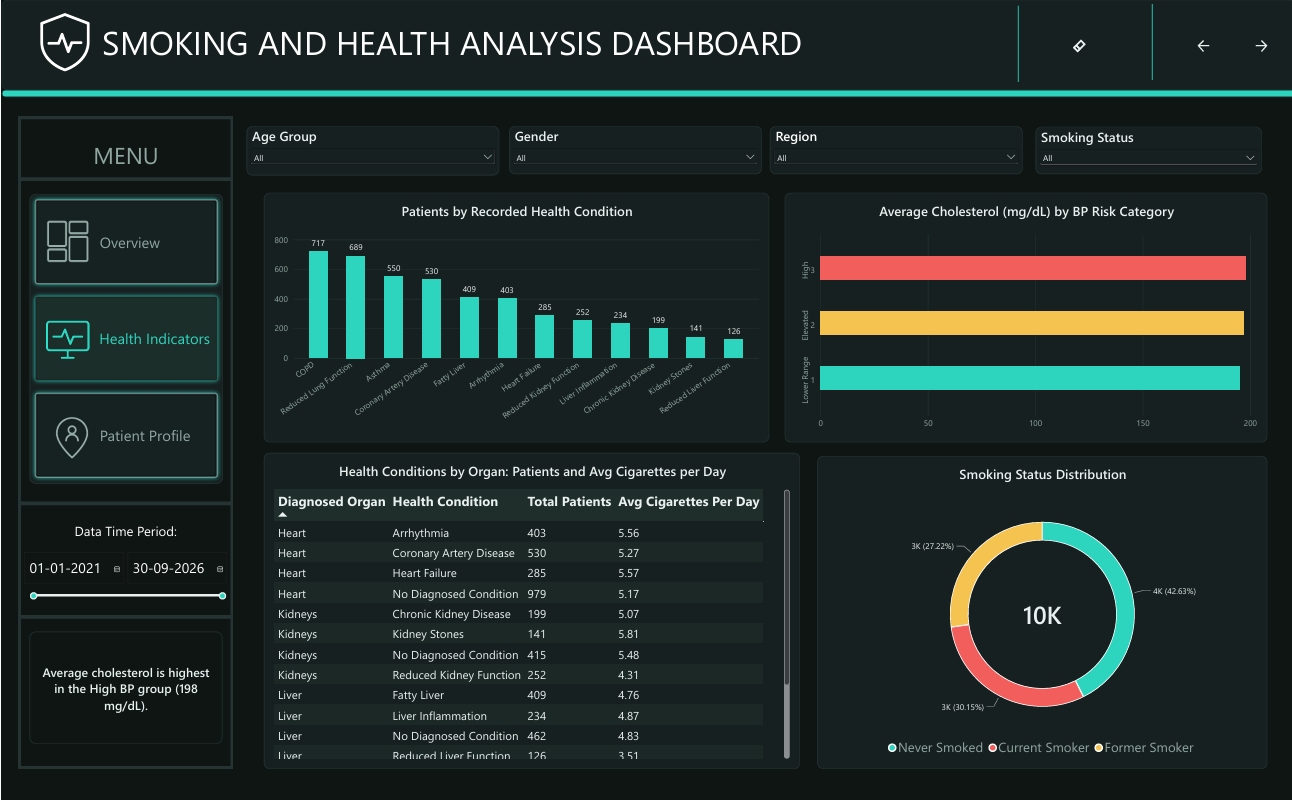

The dashboard page shown, as its layout file describes it:
{"tool":"powerbi","page":{"name":"Health Indicators\t","canvas":[2100,1300],"ordinal":1},"visuals":[{"type":"clusteredColumnChart","title":"Patients by Recorded Health Condition","fields":{"Category":["Smoking_Health_Analysis.Health_Condition"],"Y":["measure.Patients with Organ diagnose"]},"box":[425,312.5,820,405],"z":0},{"type":"tableEx","title":"Health Conditions by Organ: Patients and Avg Cigarettes per Day","fields":{"Values":["Smoking_Health_Analysis.Diagnosed_Organ","Smoking_Health_Analysis.Health_Condition","measure.Total Patients","Avg(Smoking_Health_Analysis.Cigarettes_Per_Day)"]},"box":[425,735,870,512.5],"z":1000},{"type":"donutChart","title":"Smoking Status Distribution","fields":{"Category":["Smoking_Health_Analysis.Smoking_Status"],"Y":["measure.Total Patients"]},"box":[1322.5,740,730,507.5],"z":2000},{"type":"barChart","title":"Average Cholesterol (mg/dL) by BP Risk Category","fields":{"Category":["Smoking_Health_Analysis.BP Risk Category","Smoking_Health_Analysis.BP Risk Sort"],"Y":["Avg(Smoking_Health_Analysis.Total_Cholesterol_mg_dL)"]},"box":[1270,312.5,782.5,405],"z":3000},{"type":"shape","box":[27.3,190,348.2,1057.3],"z":4000},{"type":"pageNavigator","box":[45.5,315.5,313.6,470],"z":5000},{"type":"shape","box":[27.9,840,346.4,42.1],"z":6000},{"type":"slicer","fields":{"Values":["Smoking_Health_Analysis.Diagnosis_Date"]},"box":[27.9,890.7,346.4,97.1],"z":7000},{"type":"shape","box":[27.9,794.3,346.4,45.7],"z":8000},{"type":"shape","box":[27.9,977.9,346.4,46.4],"z":9000},{"type":"shape","box":[27.9,267.9,346.4,45.7],"z":10000},{"type":"textbox","box":[27.7,226.9,347.7,57.7],"z":11000},{"type":"cardVisual","fields":{"Data":["measure.Insight Text P2"]},"box":[45,1025,313.3,181.7],"z":12000},{"type":"slicer","fields":{"Values":["Smoking_Health_Analysis.Age Group"]},"box":[397,205,410,80],"z":13000},{"type":"slicer","fields":{"Values":["Smoking_Health_Analysis.Gender"]},"box":[823,205,410,77.5],"z":14000},{"type":"slicer","fields":{"Values":["Smoking_Health_Analysis.Region"]},"box":[1246,205,410,77.5],"z":15000},{"type":"slicer","fields":{"Values":["Smoking_Health_Analysis.Smoking_Status"]},"box":[1677,206,366.7,76.7],"z":16000},{"type":"shape","box":[0,146,2100,12.2],"z":17000},{"type":"shape","box":[0,0,2100,145.8],"z":18000},{"type":"image","box":[45,0,115,135],"z":19000},{"type":"textbox","box":[127.5,31.2,1185,103.8],"z":20000},{"type":"actionButton","box":[1688,14,120,120.8],"z":21000},{"type":"shape","box":[1642.5,10,12.9,122.9],"z":22000},{"type":"shape","box":[1860,7,12.9,122.9],"z":23000},{"type":"actionButton","box":[1993.3,55,100,40],"z":24000},{"type":"actionButton","box":[1900,55,100,40],"z":25000},{"type":"image","box":[45,506,122.5,87.5],"z":26000},{"type":"image","box":[53.8,347.5,105,88],"z":27000},{"type":"image","box":[69.2,670,90,80],"z":28000}]}

Visuals, with their boxes in screenshot pixels (x1, y1, x2, y2), scaled from the page's 2100x1300 canvas onto the 1292x800 screenshot:
"Patients by Recorded Health Condition" clusteredColumnChart: box(261, 192, 766, 442)
"Health Conditions by Organ: Patients and Avg Cigarettes per Day" tableEx: box(261, 452, 797, 768)
"Smoking Status Distribution" donutChart: box(814, 455, 1263, 768)
"Average Cholesterol (mg/dL) by BP Risk Category" barChart: box(781, 192, 1263, 442)
shape: box(17, 117, 231, 768)
pageNavigator: box(28, 194, 221, 483)
shape: box(17, 517, 230, 543)
slicer - Smoking_Health_Analysis.Diagnosis_Date: box(17, 548, 230, 608)
shape: box(17, 489, 230, 517)
shape: box(17, 602, 230, 630)
shape: box(17, 165, 230, 193)
textbox: box(17, 140, 231, 175)
cardVisual - measure.Insight Text P2: box(28, 631, 220, 743)
slicer - Smoking_Health_Analysis.Age Group: box(244, 126, 496, 175)
slicer - Smoking_Health_Analysis.Gender: box(506, 126, 759, 174)
slicer - Smoking_Health_Analysis.Region: box(767, 126, 1019, 174)
slicer - Smoking_Health_Analysis.Smoking_Status: box(1032, 127, 1257, 174)
shape: box(0, 90, 1291, 97)
shape: box(0, 0, 1291, 90)
image: box(28, 0, 98, 83)
textbox: box(78, 19, 808, 83)
actionButton: box(1039, 9, 1112, 83)
shape: box(1011, 6, 1018, 82)
shape: box(1144, 4, 1152, 80)
actionButton: box(1226, 34, 1288, 58)
actionButton: box(1169, 34, 1230, 58)
image: box(28, 311, 103, 365)
image: box(33, 214, 98, 268)
image: box(43, 412, 98, 462)
